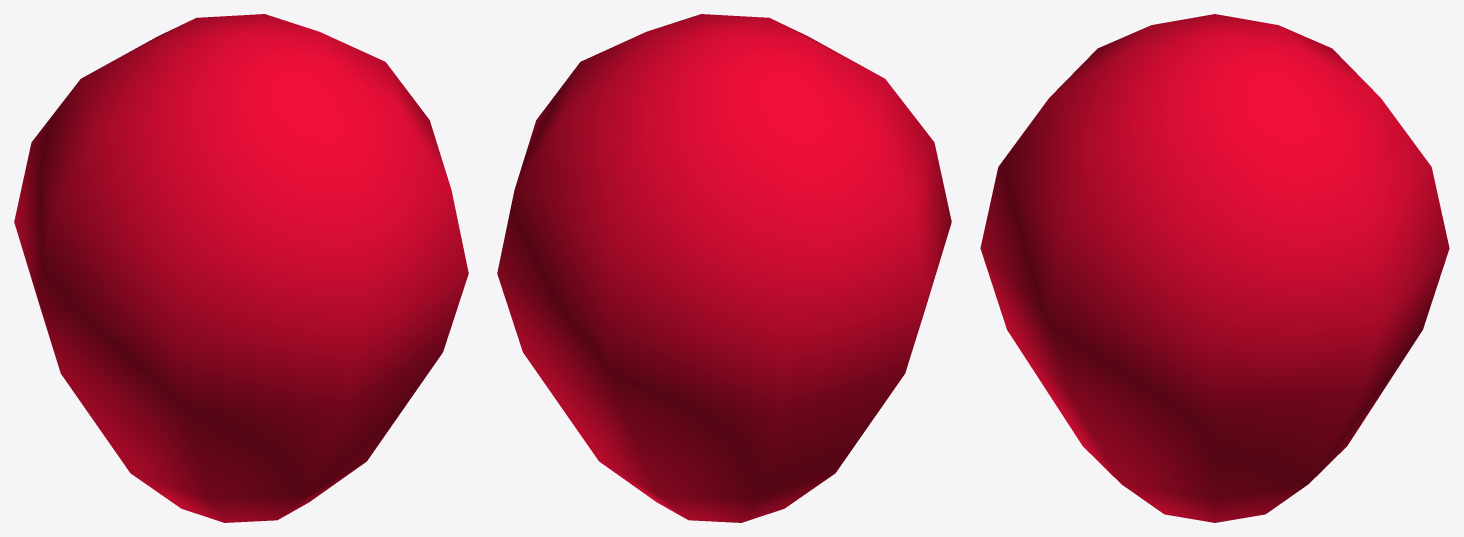
Rendered from SM_R_Balloon.fbx.
The picture shows the model from 3 angles, left to right: view 1: azimuth 30°, elevation 25°; view 2: azimuth 150°, elevation 25°; view 3: azimuth 270°, elevation 25°; orthographic projection.
Visible parts, largest first — view 1: SM_Red_Balloon; view 2: SM_Red_Balloon; view 3: SM_Red_Balloon.
Boxes of the visible parts, x1,y1,x2,y2 form: SM_Red_Balloon: (14,14,468,522); SM_Red_Balloon: (497,14,951,522); SM_Red_Balloon: (980,14,1449,522).
Size of the model in its own units: 27.96 by 30.36 by 27.96.
